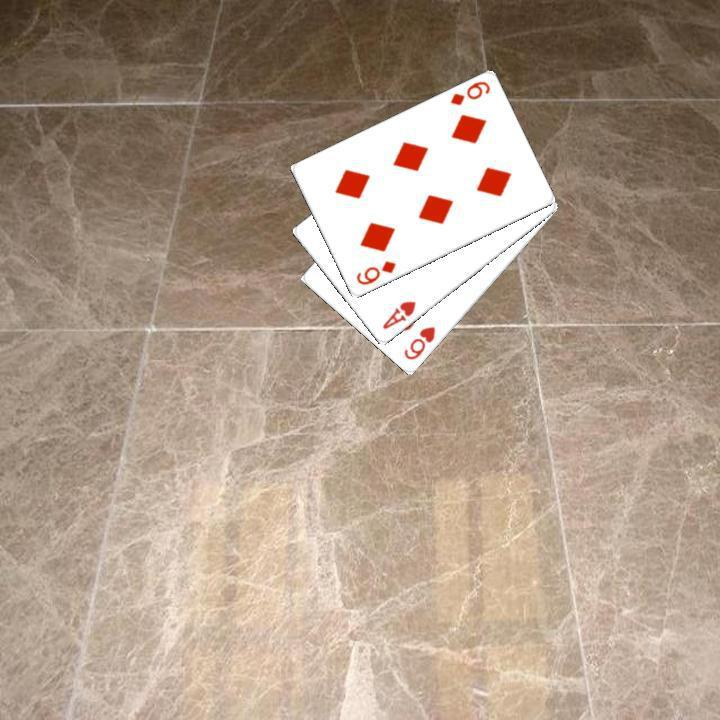6: (399, 322, 437, 362), (351, 256, 398, 287), (446, 77, 492, 108)
A: (378, 297, 418, 332)
